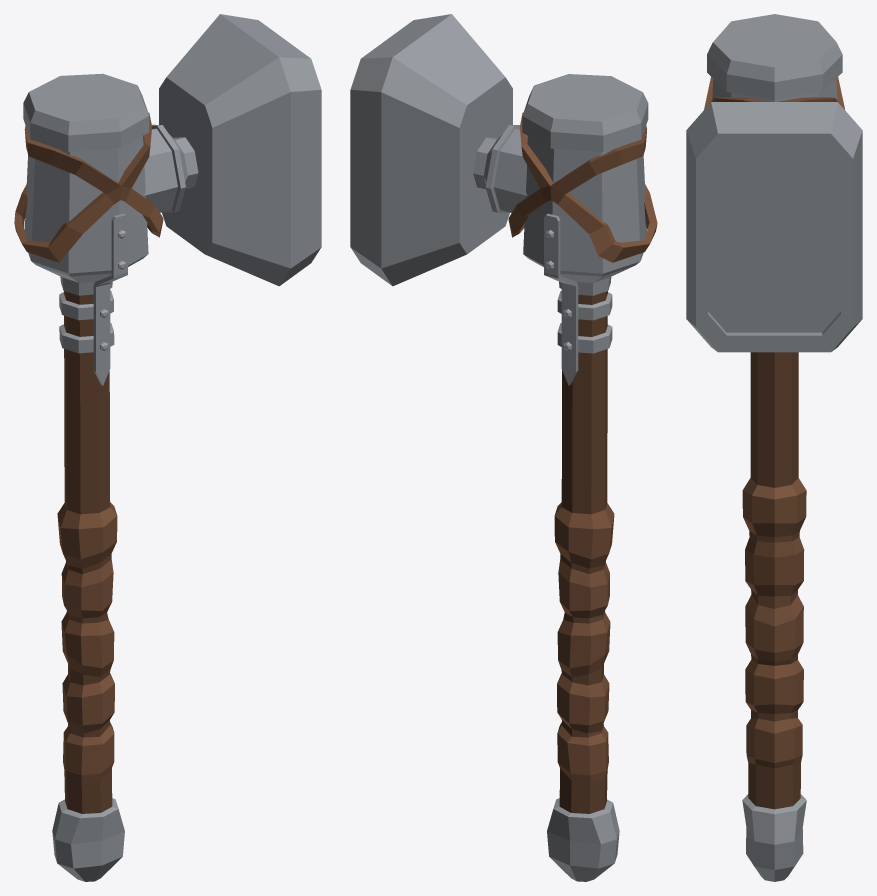
The model's file is Hammer_Small.gltf.
3 renders of one model, left to right at view 1: azimuth 30°, elevation 25°; view 2: azimuth 150°, elevation 25°; view 3: azimuth 270°, elevation 25°, orthographic. The views are drawn at different scales.
Visible parts, largest first — view 1: Hammer_Small; view 2: Hammer_Small; view 3: Hammer_Small.
Part boxes in pixels (bbox=[...]): Hammer_Small: bbox=[14, 14, 321, 881]; Hammer_Small: bbox=[350, 14, 657, 881]; Hammer_Small: bbox=[686, 14, 862, 881].
Size of the model in its own units: 1.49 by 4.33 by 0.8057.
